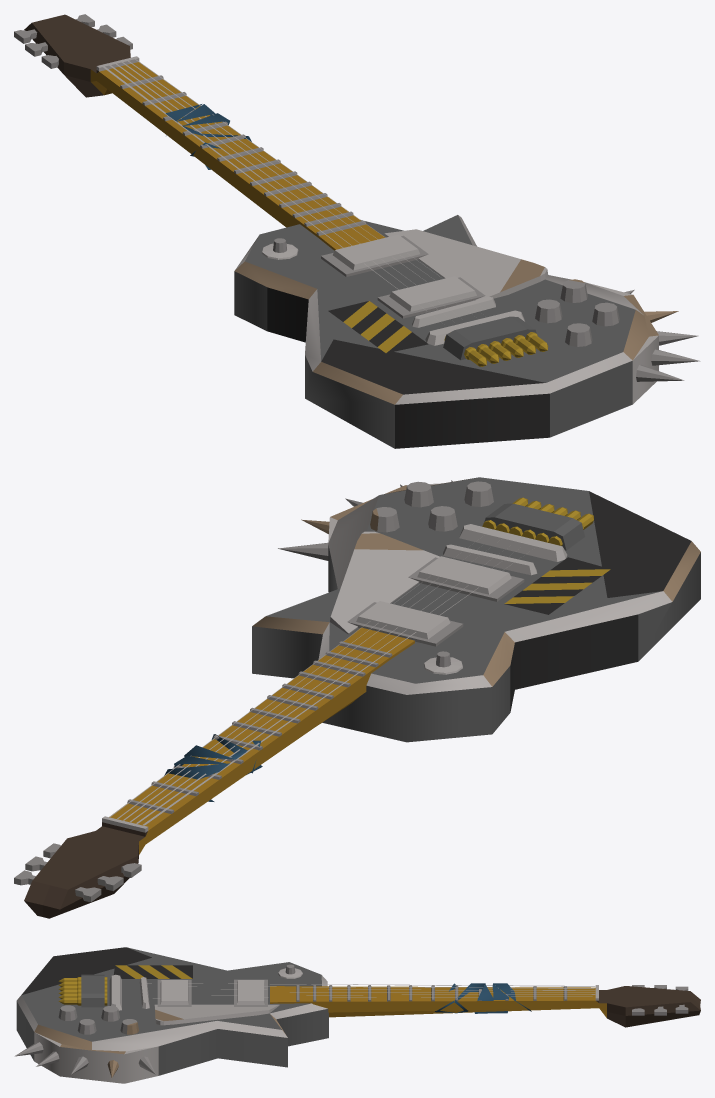
File: cc0-guitar-lod1.glb
3 renders of one model, top to bottom at view 1: azimuth 30°, elevation 25°; view 2: azimuth 150°, elevation 25°; view 3: azimuth 270°, elevation 25°, orthographic. The views are drawn at different scales.
Parts seen in each view (by area): view 1: part_0; view 2: part_0; view 3: part_0.
Boxes of the visible parts, <box> form: part_0: <box>14,14,700,448</box>; part_0: <box>14,477,700,918</box>; part_0: <box>14,947,700,1083</box>.
Size of the model in its own units: 0.7209 by 0.1291 by 1.8.
1 material, 1 textured.
